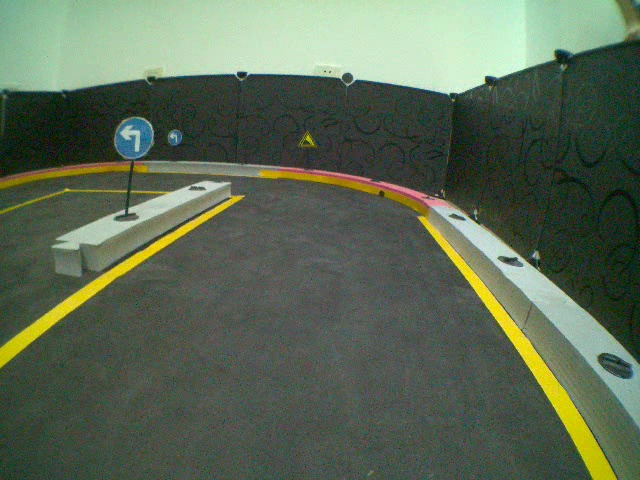fast: (295, 129, 318, 150)
turn: (113, 114, 154, 160), (167, 129, 182, 147)
